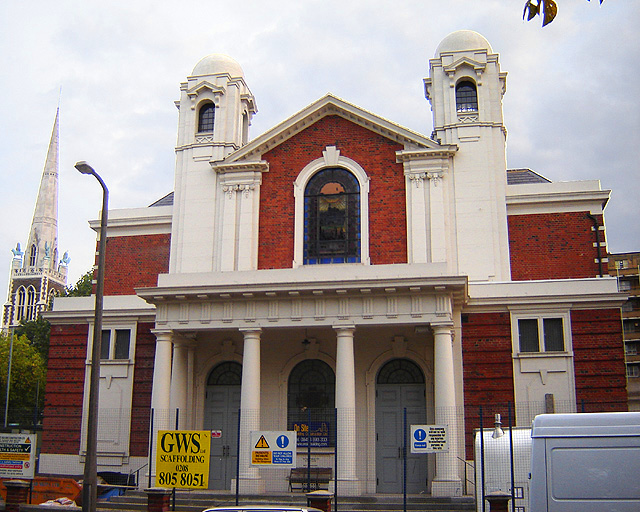fachada: (56, 8, 640, 512), (0, 90, 85, 508)
poste: (65, 151, 134, 512)
